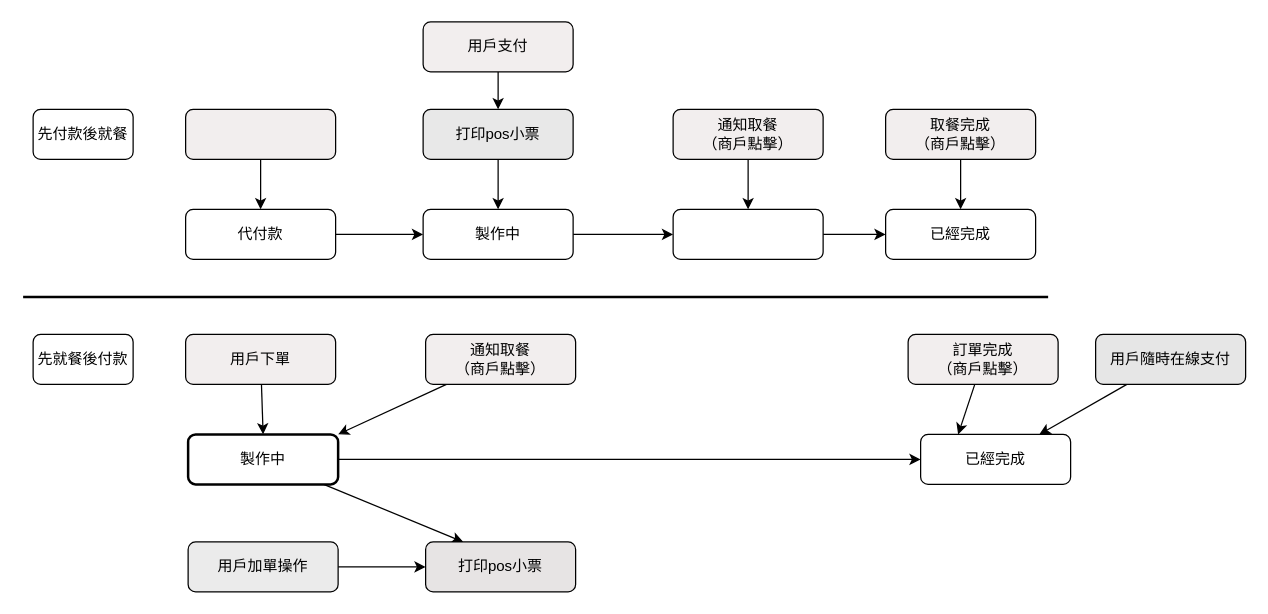
The diagram is 1268 pixels wide and 614 high, and some of its shapes have lost their labels. The box of each missing label's shape, as (x1, y1, x2, y2) in pixels:
代取餐: (672, 208, 823, 259)
用戶確認訂單: (184, 108, 336, 159)
